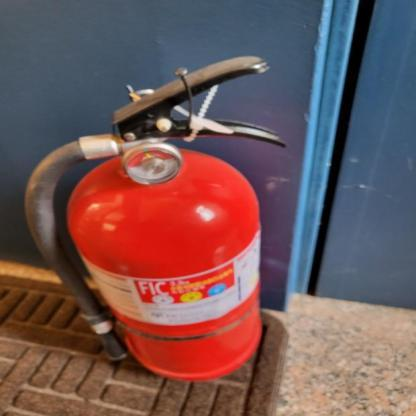Fire Extinguisher: (24, 47, 299, 393)
